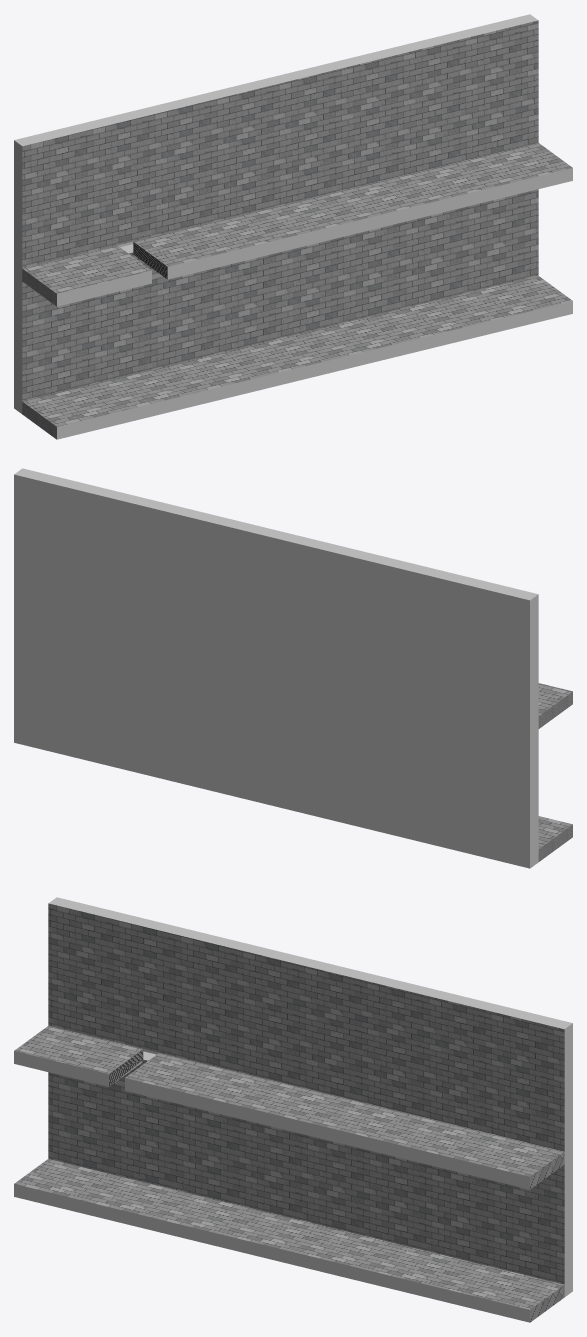
The model's file is dungeon.fbx.
The picture shows the model from 3 angles, top to bottom: view 1: azimuth 30°, elevation 25°; view 2: azimuth 150°, elevation 25°; view 3: azimuth 330°, elevation 25°; orthographic projection.
Visible parts, largest first — view 1: Mesh; view 2: Mesh; view 3: Mesh.
Part boxes in pixels (bbox=[...]): Mesh: bbox=[14, 14, 572, 439]; Mesh: bbox=[14, 468, 572, 868]; Mesh: bbox=[14, 897, 572, 1322].
Bounding box in the file's own units: 24770 × 12301 × 3565.
Materials: 5 (4 with a texture image).
